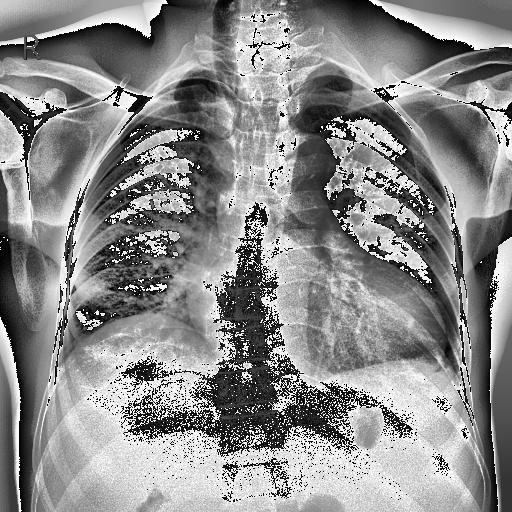0- Aortic enlargement: (266, 128, 338, 218), (266, 132, 334, 188), (272, 133, 336, 190)
3- Cardiomegaly: (182, 256, 450, 366), (184, 276, 446, 362), (185, 287, 449, 360)
9- Other lesion: (196, 11, 276, 211), (199, 2, 254, 124)
